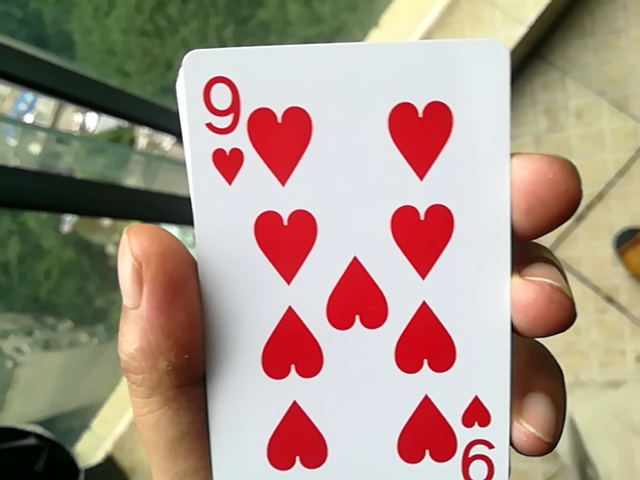hx 9: (155, 41, 504, 480)
